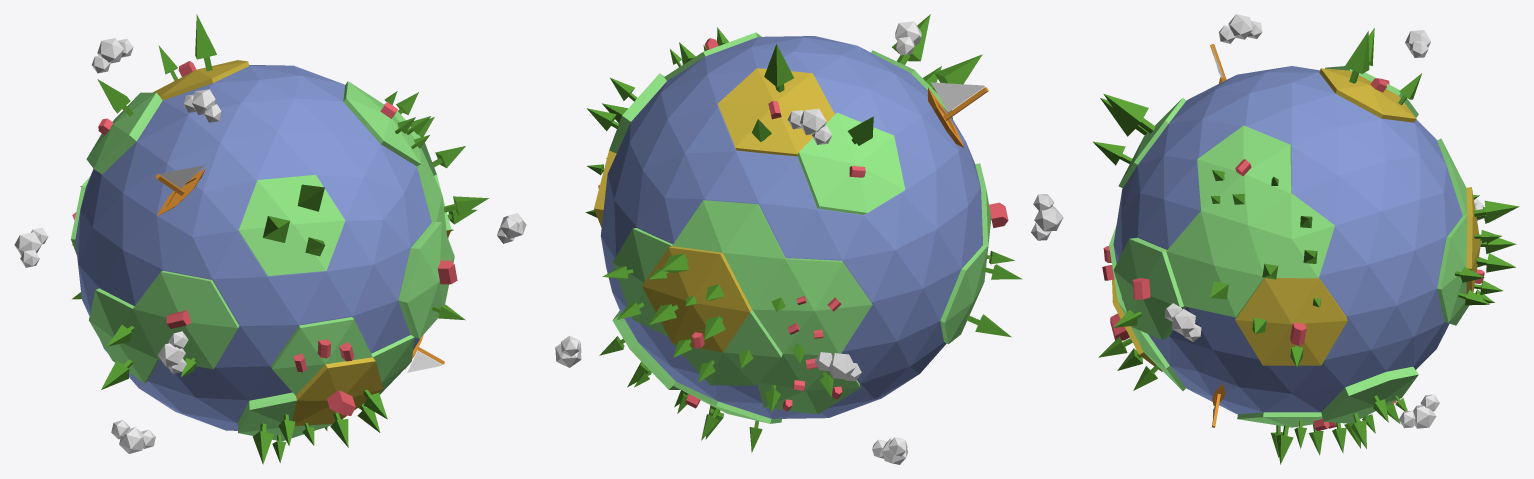
Rendered from Planet.glb.
The picture shows the model from 3 angles, left to right: view 1: azimuth 30°, elevation 25°; view 2: azimuth 150°, elevation 25°; view 3: azimuth 270°, elevation 25°; orthographic projection. The views are drawn at different scales.
Visible parts, largest first — view 1: Icosphere.001, Icosphere, Plane.081, Icosphere.003, Icosphere.006, Icosphere.008, Icosphere.005, Icosphere.004, Plane.048, Icosphere.007, Plane.080, Plane.037 (+2 smaller); view 2: Icosphere.001, Icosphere, Plane.081, Icosphere.006, Icosphere.008, Icosphere.005, Icosphere.003, Plane.048, Icosphere.004, Plane.036, Icosphere.002, Plane.037; view 3: Icosphere.001, Icosphere, Plane.037, Icosphere.002, Icosphere.004, Icosphere.007, Plane.048, Icosphere.006, Plane.021, Plane.035.
Part boxes in pixels (bbox=[...]): Icosphere.001: bbox=[75, 65, 431, 430]; Icosphere: bbox=[71, 60, 454, 441]; Plane.081: bbox=[155, 165, 205, 216]; Icosphere.003: bbox=[111, 420, 155, 453]; Icosphere.006: bbox=[91, 38, 133, 73]; Icosphere.008: bbox=[157, 331, 188, 373]; Icosphere.005: bbox=[14, 227, 48, 267]; Icosphere.004: bbox=[184, 89, 221, 122]; Plane.048: bbox=[195, 14, 216, 71]; Icosphere.007: bbox=[497, 213, 526, 243]; Plane.080: bbox=[405, 335, 444, 372]; Plane.037: bbox=[297, 184, 324, 211]; Icosphere.001: bbox=[600, 36, 982, 418]; Icosphere: bbox=[594, 32, 991, 423]; Plane.081: bbox=[928, 82, 988, 147]; Icosphere.006: bbox=[787, 108, 832, 144]; Icosphere.008: bbox=[1031, 194, 1063, 240]; Icosphere.005: bbox=[815, 352, 861, 381]; Icosphere.003: bbox=[872, 437, 907, 464]; Plane.048: bbox=[764, 44, 793, 92]; Icosphere.004: bbox=[895, 21, 921, 55]; Plane.036: bbox=[933, 54, 982, 93]; Icosphere.002: bbox=[555, 335, 581, 367]; Plane.037: bbox=[892, 14, 930, 64]; Icosphere.001: bbox=[1113, 66, 1462, 414]; Icosphere: bbox=[1109, 66, 1480, 427]; Plane.037: bbox=[1103, 93, 1155, 133]; Icosphere.002: bbox=[1398, 394, 1439, 428]; Icosphere.004: bbox=[1218, 14, 1262, 43]; Icosphere.007: bbox=[1164, 303, 1201, 341]; Plane.048: bbox=[1344, 31, 1369, 83]; Icosphere.006: bbox=[1405, 30, 1430, 57]; Plane.021: bbox=[1473, 200, 1519, 222]; Plane.035: bbox=[1093, 141, 1132, 165].
Bounding box in the file's own units: 2.55 × 2.49 × 2.49.
